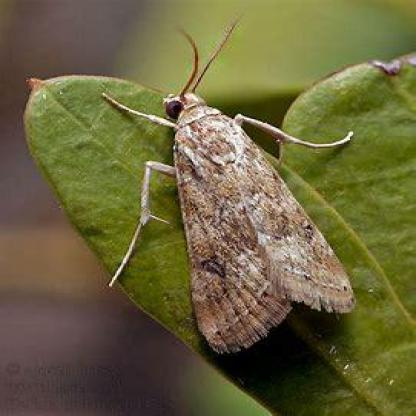Hellula undalis: (93, 1, 372, 367)
